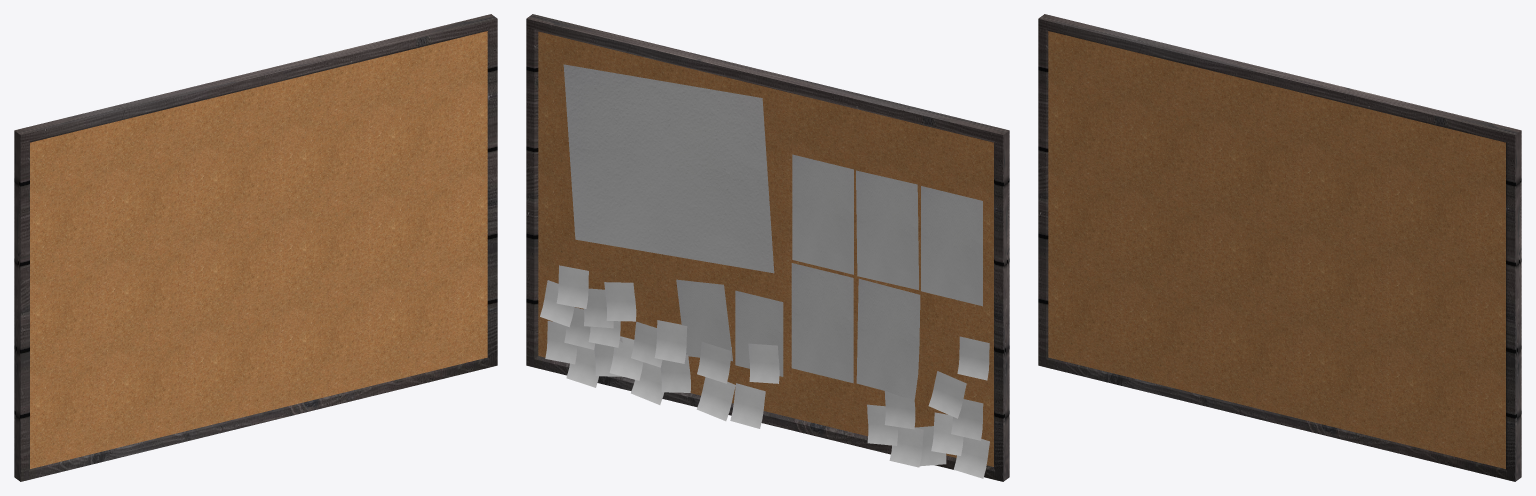
The model's file is test_infotable_1.fbx.
3 views of the same model, side by side, from view 1: azimuth 30°, elevation 25°; view 2: azimuth 150°, elevation 25°; view 3: azimuth 330°, elevation 25° (orthographic).
Parts seen in each view (by area): view 1: Box122; view 2: Box122, Plane011, Plane015, Plane013, Plane016, Plane012, Plane014, Plane018, Plane017, Plane036, Plane025, Plane045 (+24 smaller); view 3: Box122.
Boxes of the visible parts, bbox=[...] form: Box122: bbox=[14, 14, 497, 481]; Box122: bbox=[526, 14, 1009, 481]; Plane011: bbox=[563, 64, 774, 273]; Plane015: bbox=[791, 263, 853, 383]; Plane013: bbox=[856, 170, 918, 290]; Plane016: bbox=[856, 278, 920, 399]; Plane012: bbox=[792, 154, 853, 274]; Plane014: bbox=[921, 186, 982, 306]; Plane018: bbox=[676, 279, 732, 361]; Plane017: bbox=[735, 290, 783, 376]; Plane036: bbox=[730, 383, 765, 428]; Plane025: bbox=[556, 265, 588, 308]; Plane045: bbox=[928, 371, 966, 418]; Box122: bbox=[1038, 14, 1521, 481].
Size of the model in its own units: 51.54 by 2.05 by 36.11.
Materials: 3 (3 with a texture image).
